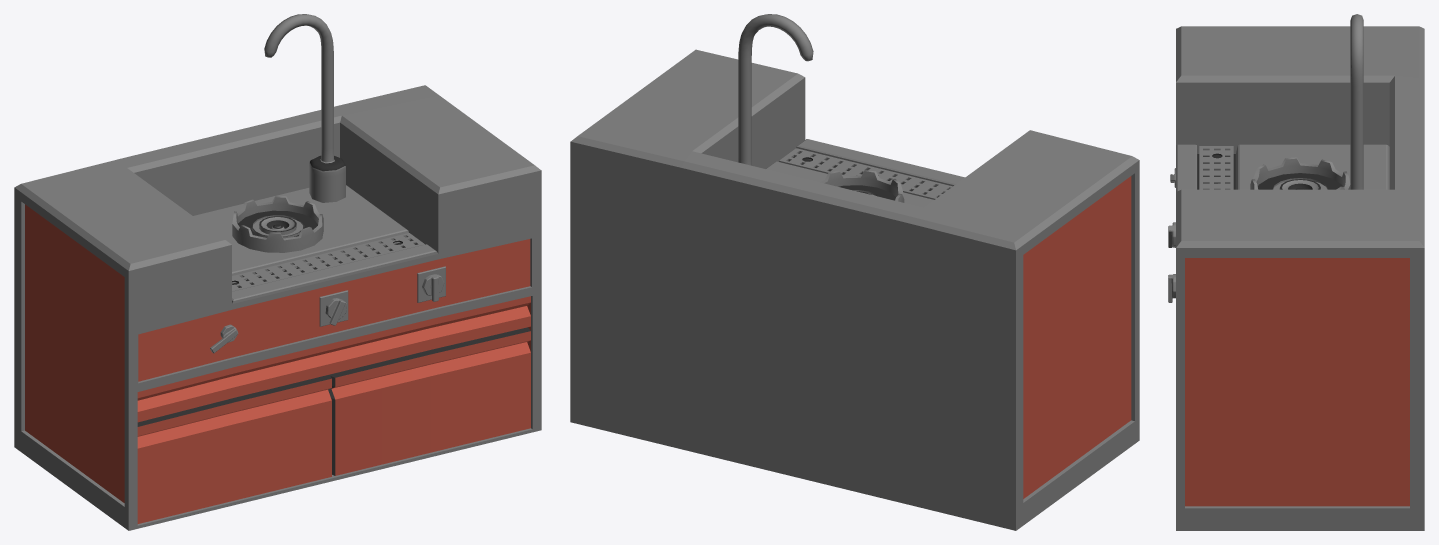
The model's file is mesh006_WokArea.fbx.
The picture shows the model from 3 angles, left to right: view 1: azimuth 30°, elevation 25°; view 2: azimuth 150°, elevation 25°; view 3: azimuth 270°, elevation 25°; orthographic projection. The views are drawn at different scales.
Parts seen in each view (by area): view 1: mesh004_Wok_Area_Body, submesh_Wok_Tap, mesh005_Wok_Grate; view 2: mesh004_Wok_Area_Body, submesh_Wok_Tap, mesh005_Wok_Grate; view 3: mesh004_Wok_Area_Body, submesh_Wok_Tap, mesh005_Wok_Grate.
Part boxes in pixels (x1=…): mesh004_Wok_Area_Body: x1=14, y1=85, x2=541, y2=530; submesh_Wok_Tap: x1=264, y1=14, x2=345, y2=202; mesh005_Wok_Grate: x1=232, y1=233, x2=424, y2=291; mesh004_Wok_Area_Body: x1=570, y1=49, x2=1139, y2=530; submesh_Wok_Tap: x1=738, y1=14, x2=813, y2=165; mesh005_Wok_Grate: x1=779, y1=148, x2=952, y2=199; mesh004_Wok_Area_Body: x1=1168, y1=26, x2=1424, y2=530; submesh_Wok_Tap: x1=1350, y1=14, x2=1363, y2=189; mesh005_Wok_Grate: x1=1199, y1=146, x2=1233, y2=189.
Bounding box in the file's own units: 3.43 × 3.13 × 1.7.
